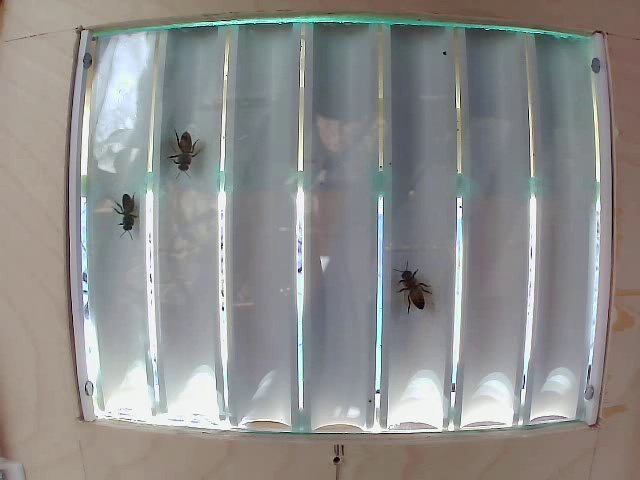bee: (165, 123, 208, 195), (389, 257, 432, 316), (123, 168, 151, 237)
